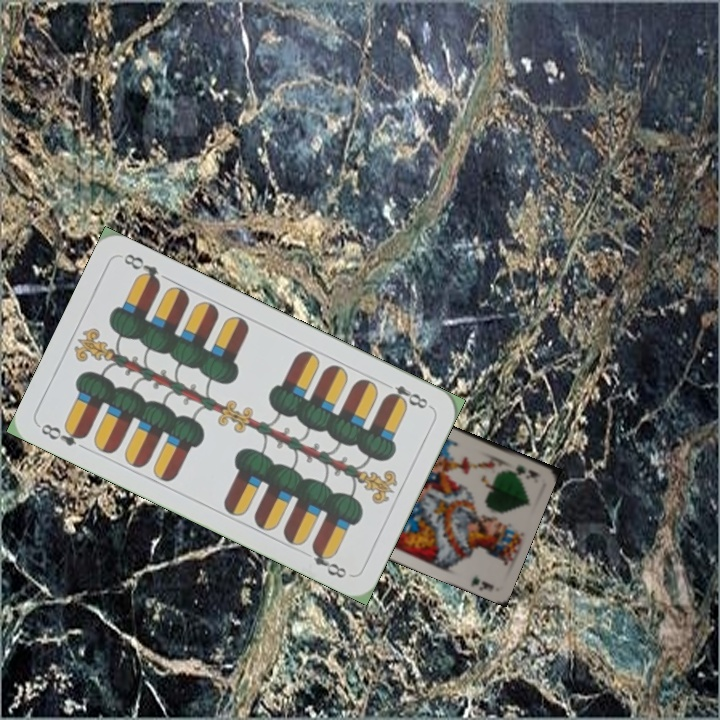E8: (379, 377, 434, 412), (37, 419, 89, 449)
GK: (502, 461, 541, 480)
